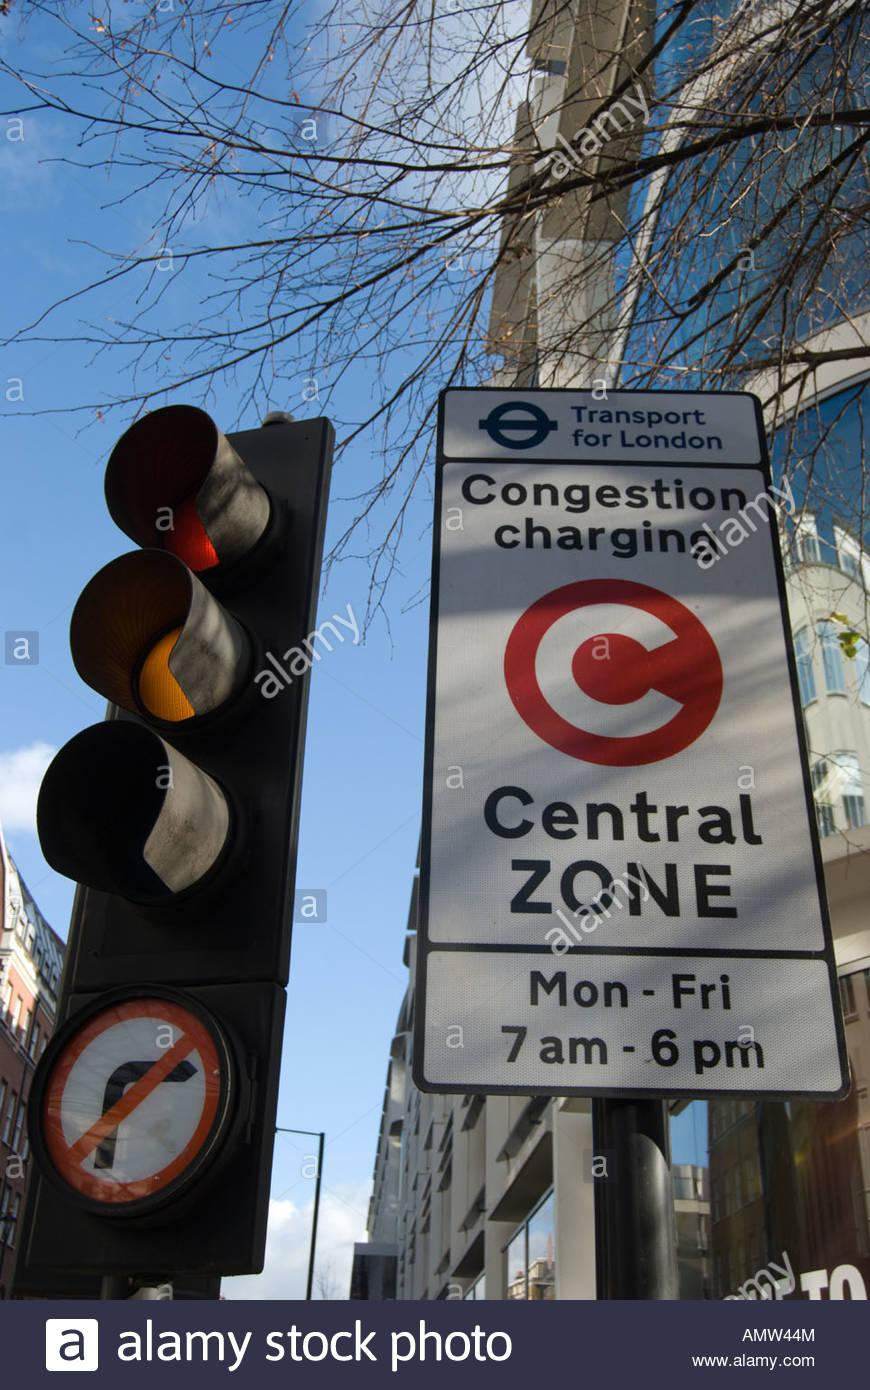no_right_turn: (39, 995, 223, 1203)
